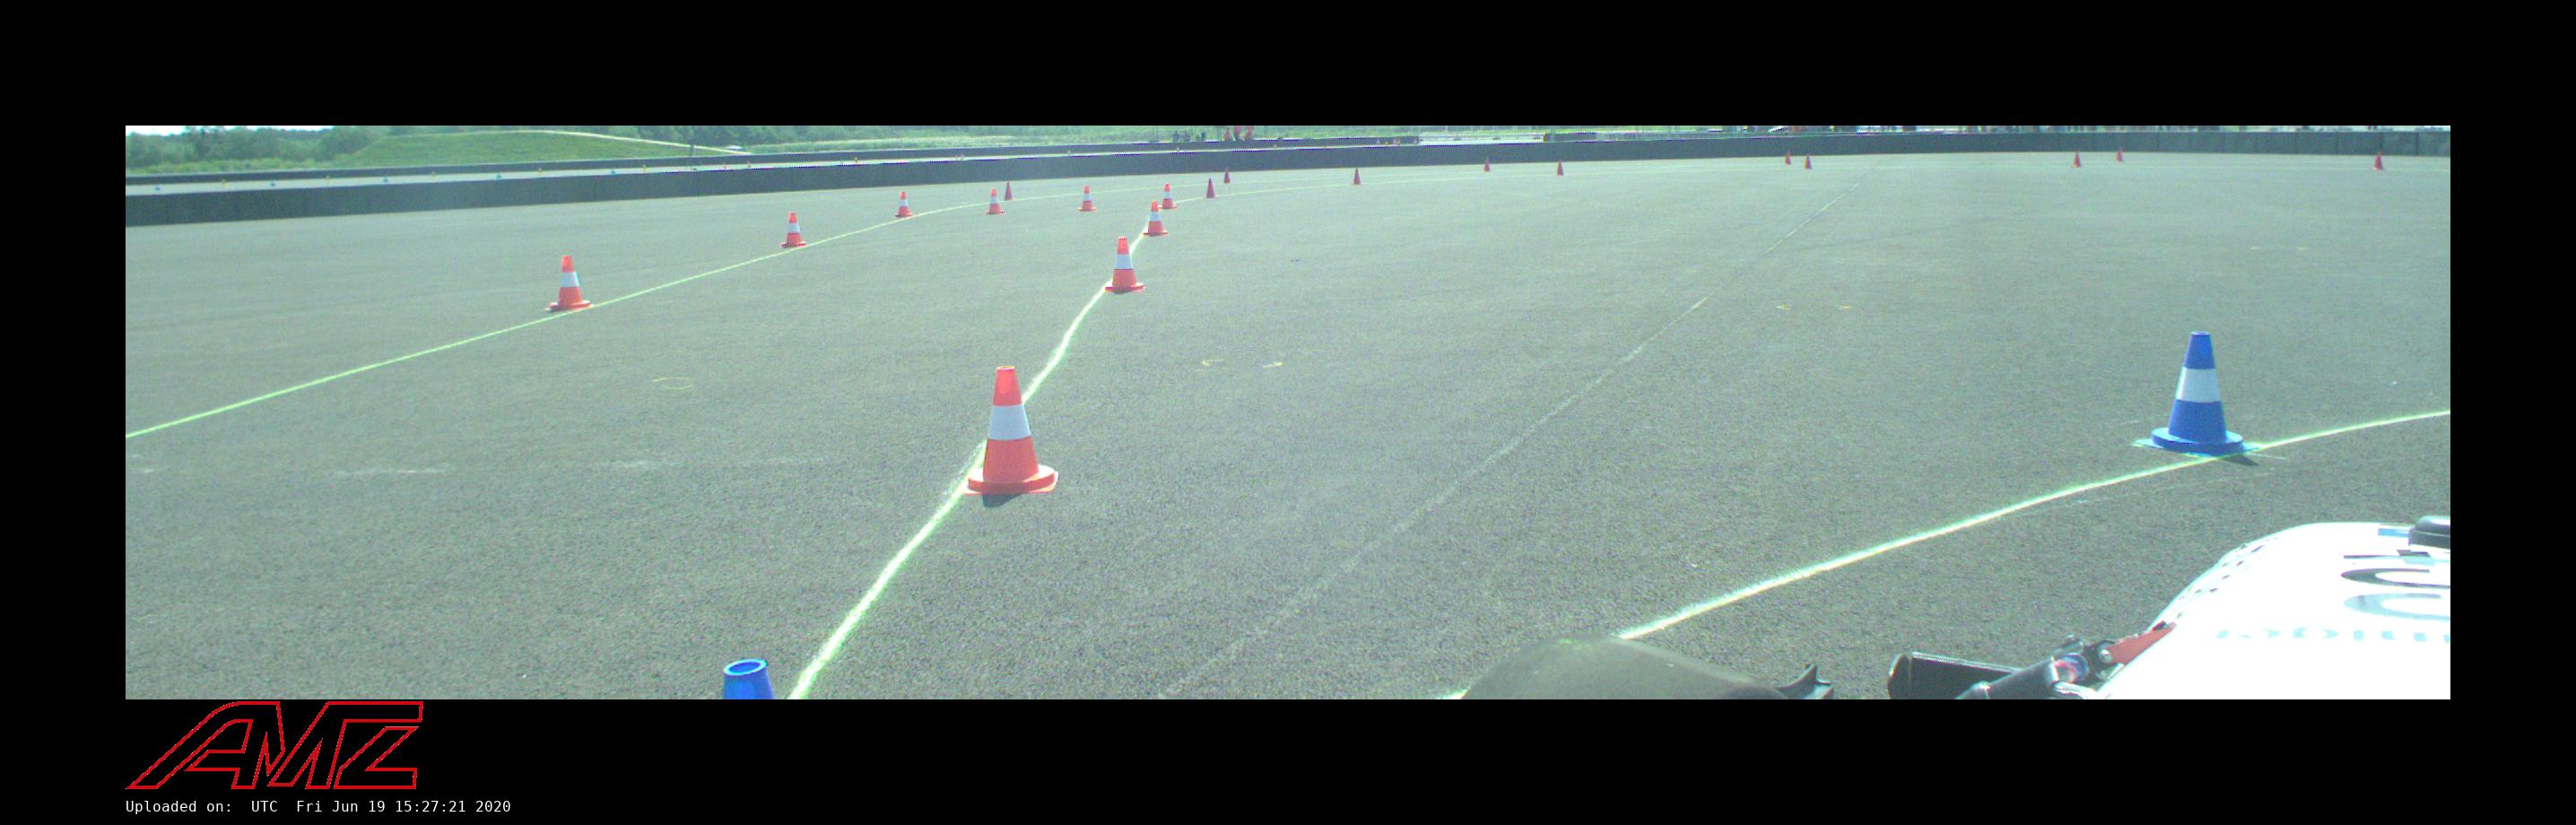blue_cone: (2136, 330, 2259, 457), (721, 659, 775, 700)
orange_cone: (961, 366, 1058, 495), (545, 256, 595, 311), (1102, 237, 1145, 293), (780, 212, 807, 248), (1143, 200, 1168, 237), (894, 191, 913, 219), (1157, 184, 1178, 209), (986, 189, 1005, 214), (1078, 186, 1097, 210)
